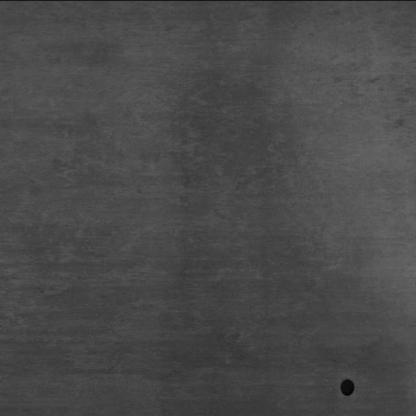punching_hole: (336, 374, 361, 397)
